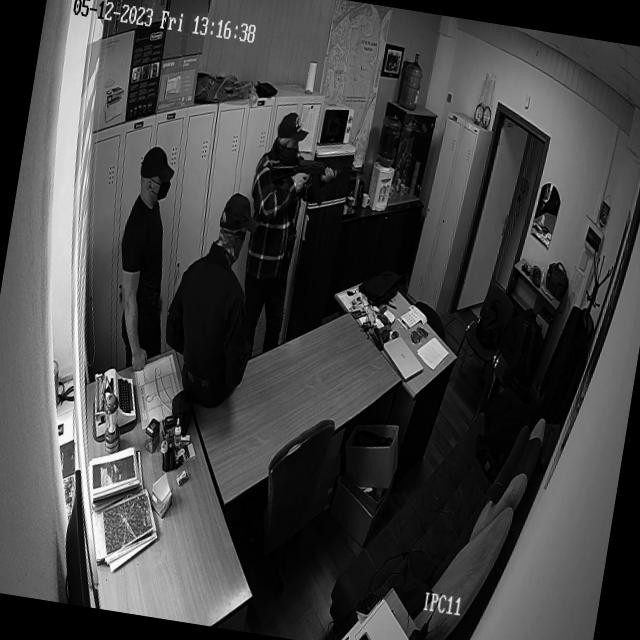gun: (268, 150, 366, 212), (520, 261, 532, 277)
person: (156, 188, 274, 410), (105, 144, 193, 362)
person with a gun: (228, 109, 373, 362)
